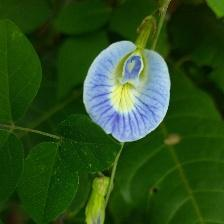shankupushpam: (82, 39, 175, 149)
